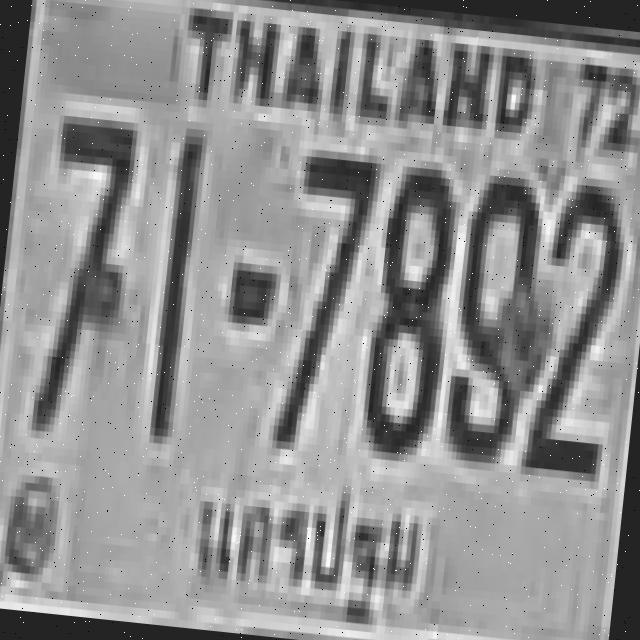1: (145, 128, 199, 436)
2: (520, 170, 626, 478)
7: (25, 107, 136, 430), (272, 140, 378, 448)
8: (356, 153, 456, 452)
9: (439, 165, 547, 458)
NakhonPathom: (182, 462, 430, 636)
